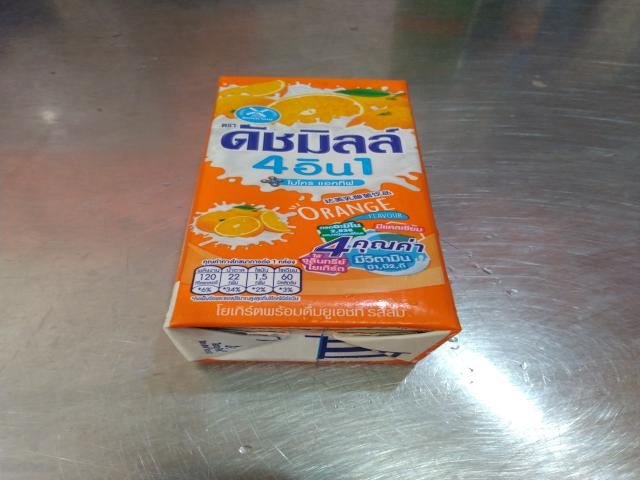drink_box: (154, 62, 518, 389)
